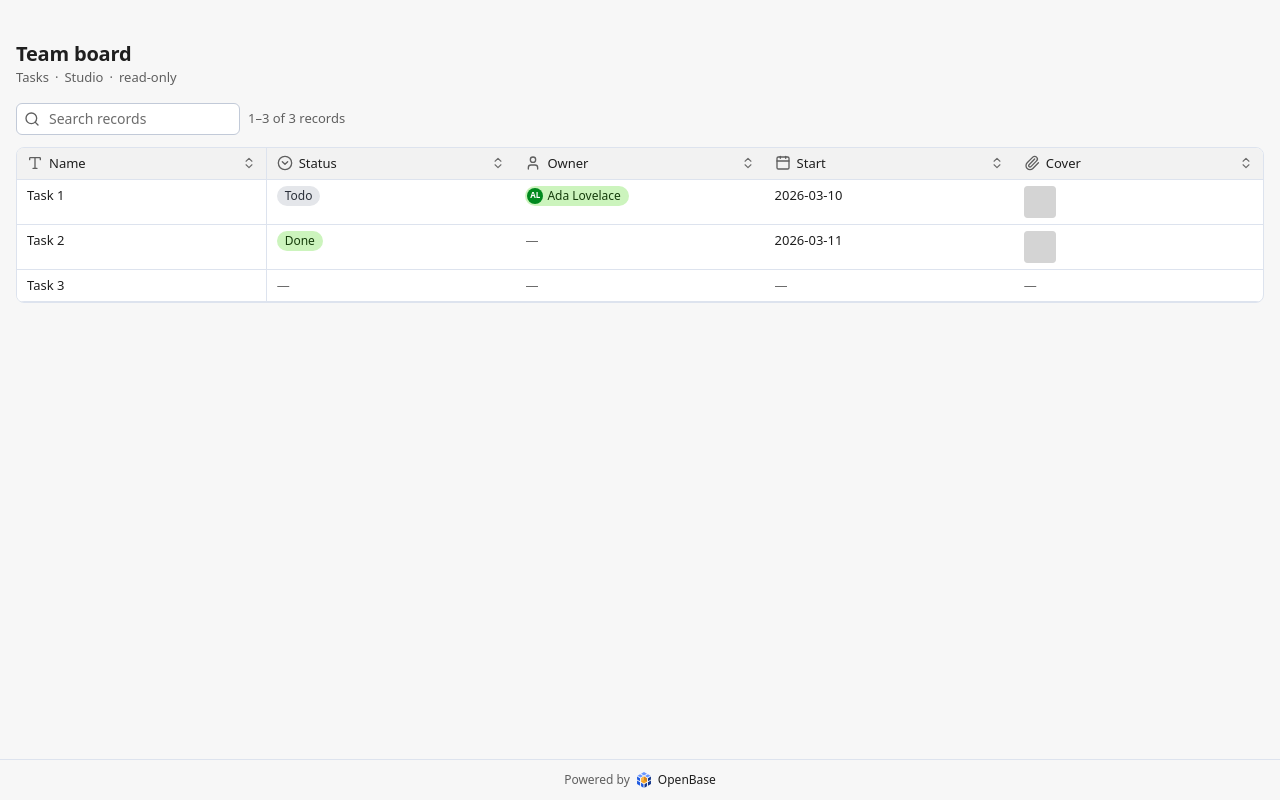
Test: a shared grid › searches
Expected: the text "Task 1" is shown, [27,186,64,204]
Type "task 2" into the search field labelled "Search records" at (128, 119), box [16,103,240,135]
Wait 400 ms
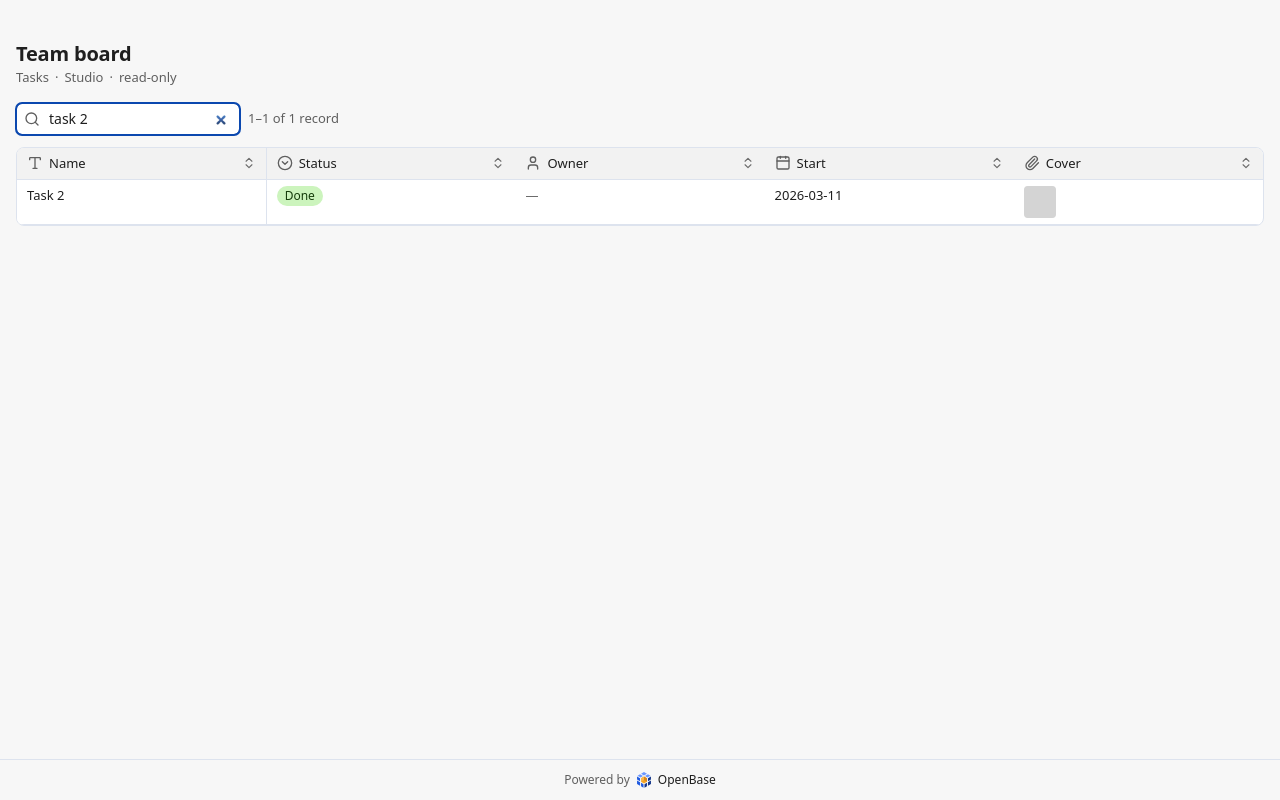
Expected: the text "Task 2" is shown, [27,186,64,204]
Now the text "Task 1" is gone
